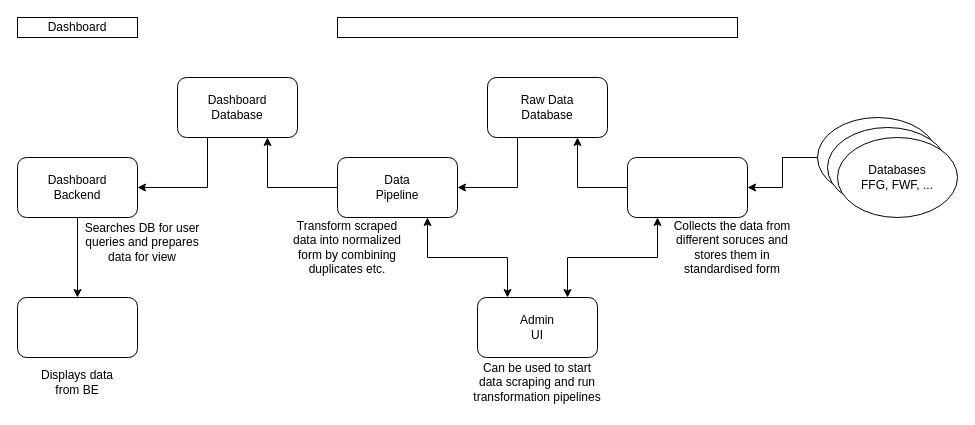
Image size: 975x425. Some labels were removed from this diagram. The shapes that lost their labels are listed below. From the top down, each one's centre as x and y in pixels, then its label:
the point at 537,27: Data
the point at 687,187: Data Scraper
the point at 77,327: Dashboard UI
